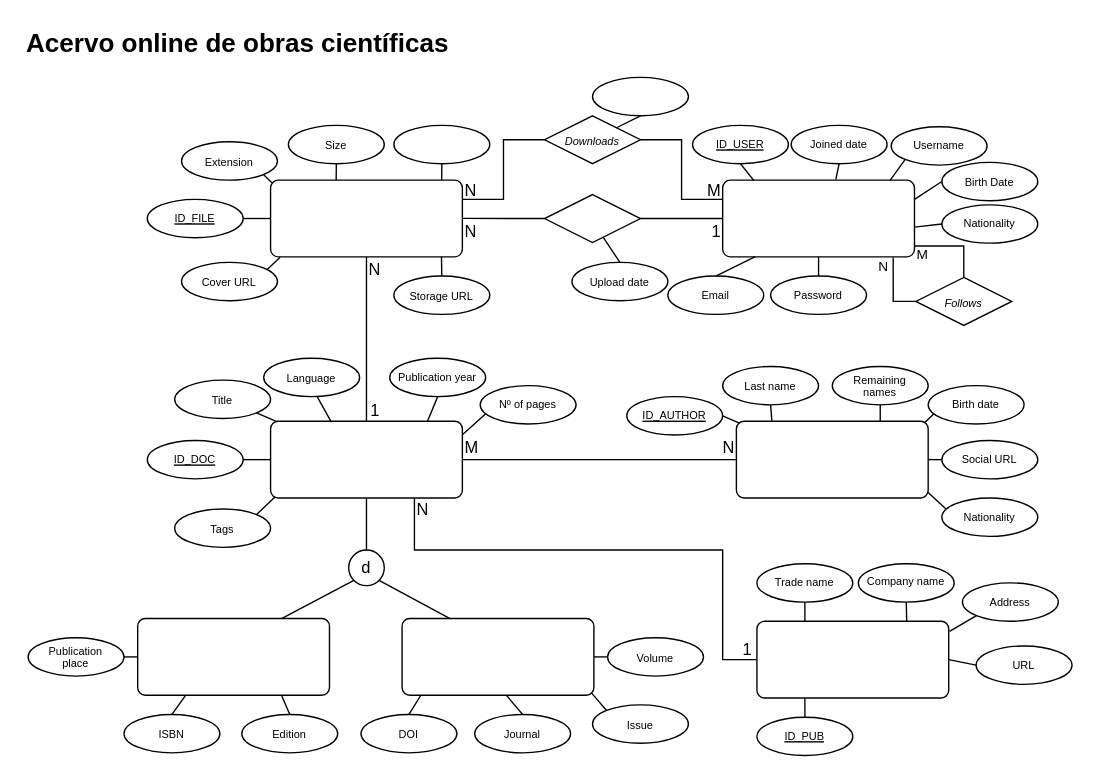
Image size: 1096x780. Some labels were removed from this diagram. The shapes that lost their labels are listed below. From the top down, each one's box as (x1, y1, x2, y2) in pixels, then its label:
(591, 76, 688, 116): Download date
(393, 124, 490, 164): Filename
(269, 179, 462, 257): File
(543, 193, 640, 242): Uploads
(721, 179, 914, 257): User
(269, 420, 462, 498): Document
(735, 420, 928, 498): Author
(136, 617, 329, 695): Book
(401, 617, 594, 695): Paper
(756, 620, 949, 698): Publisher
